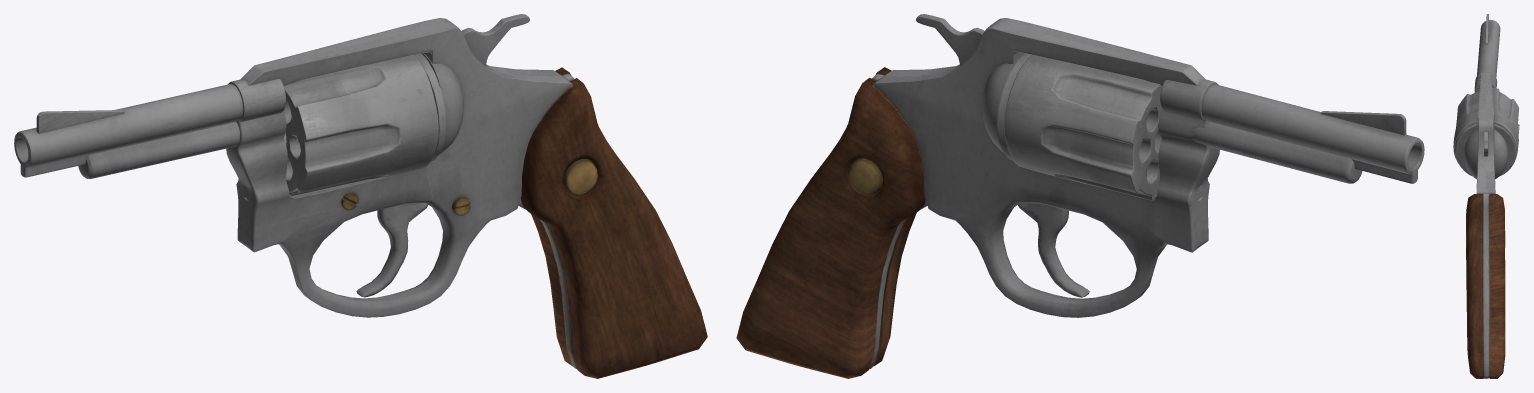
The model's file is revolver.gltf.
The picture shows the model from 3 angles, left to right: view 1: azimuth 30°, elevation 25°; view 2: azimuth 150°, elevation 25°; view 3: azimuth 270°, elevation 25°; orthographic projection. The views are drawn at different scales.
Parts seen in each view (by area): view 1: pCylinder15; view 2: pCylinder15; view 3: pCylinder15.
Boxes of the visible parts, box(x1,y1,x2,y2) form: pCylinder15: box(14, 14, 707, 378); pCylinder15: box(736, 14, 1424, 378); pCylinder15: box(1453, 14, 1519, 378).
Bounding box in the file's own units: 22.91 × 12.7 × 3.75.
1 material, 1 textured.
